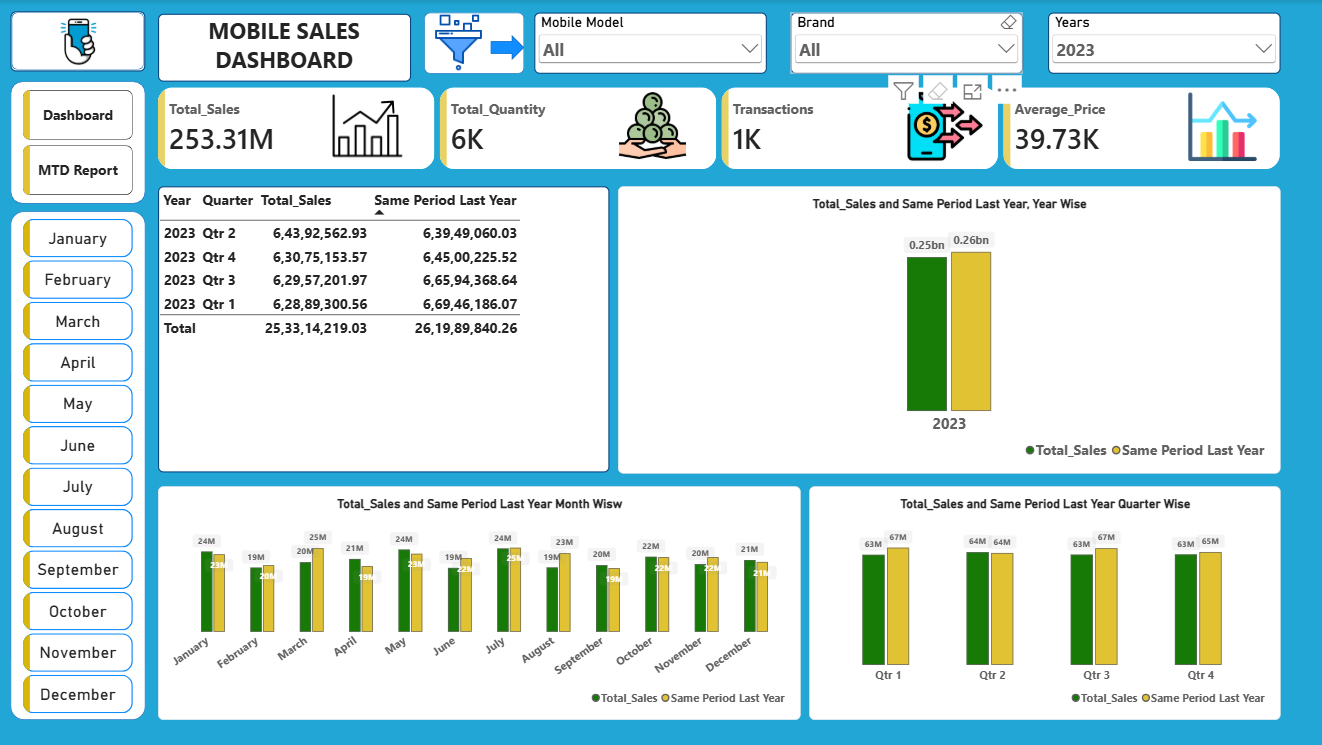

Layout of this report page (visuals, bound fields, positions):
{"tool":"powerbi","page":{"name":"Dashboard","canvas":[1920,1080],"ordinal":0},"visuals":[{"type":"shape","box":[18.1,16.3,195.4,101.3],"z":0},{"type":"image","box":[54.3,16.3,117.6,101.3],"z":1000},{"type":"shape","box":[18.1,126.7,195.4,206.3],"z":2000},{"type":"shape","box":[18.1,345.6,195.4,722.1],"z":3000},{"type":"advancedSlicerVisual","fields":{"Values":["Custom_Calendra.Date.Variation.Date Hierarchy.Month"]},"box":[36.2,363.7,159.3,691.3],"z":4000},{"type":"cardVisual","fields":{"Data":["Sales_Data.Total_Sales_data","Sales_Data.Total_Quantity","Sales_Data.Transactions","Sales_Data.Average_Price"]},"box":[232,126,1624,118],"z":5000},{"type":"image","box":[433.2,118.4,204.5,128.5],"z":6000},{"type":"image","box":[871.2,131,153.8,103.2],"z":7000},{"type":"image","box":[1283.8,129.2,175.5,108.6],"z":8000},{"type":"image","box":[1685.5,134.6,175.5,99.5],"z":9000},{"type":"slicer","fields":{"Values":["Sales_Data.Mobile Model"]},"box":[776,17.7,336.6,88.7],"z":10000},{"type":"slicer","fields":{"Values":["Sales_Data.Brand"]},"box":[1147.3,17.7,336.6,88.7],"z":11000},{"type":"slicer","fields":{"Values":["Sales_Data.Payment Method"]},"box":[1519.8,17.7,336.6,88.7],"z":12000},{"type":"shape","box":[616.7,17.7,144.8,88.7],"z":13000},{"type":"image","box":[617.1,19.9,99.5,83.2],"z":14000},{"type":"shape","box":[713,50.7,48.9,36.2],"z":15000},{"type":"shape","box":[231.6,19.9,367.4,88.7],"z":16000},{"type":"textbox","box":[232,20,366,98],"z":17000},{"type":"map","title":"Total Sales by city","fields":{"Category":["Sales_Data.City"],"Size":["Sales_Data.Total_Sales_data"]},"box":[231.6,262.4,530.2,526.6],"z":18000},{"type":"lineChart","fields":{"Category":["Custom_Calendra.Date.Variation.Date Hierarchy.Month"],"Y":["Sales_Data.Total_Quantity"]},"box":[769.1,262.4,1114.8,276.9],"z":19000},{"type":"funnel","title":"Customer Rating States","fields":{"Category":["Sales_Data.Rating_States"],"Y":["CountNonNull(Sales_Data.Customer Age)"]},"box":[769.1,551.9,553.8,237.1],"z":20000},{"type":"pieChart","fields":{"Category":["Sales_Data.Payment Method"],"Y":["Sales_Data.Transactions"]},"box":[1330.1,551.9,553.8,237.1],"z":21000},{"type":"barChart","fields":{"Category":["Sales_Data.Mobile Model"],"Y":["Sales_Data.Total_Sales_data"]},"box":[769.1,801.7,553.8,266],"z":22000},{"type":"areaChart","fields":{"Category":["Custom_Calendra.Day Name"],"Y":["Sales_Data.Total_Sales_data"]},"box":[1330.1,801.7,553.8,266],"z":23000},{"type":"tableEx","fields":{"Values":["Sales_Data.Brand","Sales_Data.Total_Sales_data","Sales_Data.Transactions","Sales_Data.Total_Quantity"]},"box":[231.6,801.7,530,266],"z":24000},{"type":"pageNavigator","box":[36.2,153.8,159.3,153.8],"z":25000}]}

Visuals, with their boxes in screenshot pixels (x1, y1, x2, y2), scaled from the page's 1920x1080 canvas onto the 1322x745 screenshot:
shape: {"left": 12, "top": 11, "right": 147, "bottom": 81}
image: {"left": 37, "top": 11, "right": 118, "bottom": 81}
shape: {"left": 12, "top": 87, "right": 147, "bottom": 230}
shape: {"left": 12, "top": 238, "right": 147, "bottom": 737}
advancedSlicerVisual - Custom_Calendra.Date.Variation.Date Hierarchy.Month: {"left": 25, "top": 251, "right": 135, "bottom": 728}
cardVisual - Sales_Data.Total_Sales_data x Sales_Data.Total_Quantity: {"left": 160, "top": 87, "right": 1278, "bottom": 168}
image: {"left": 298, "top": 82, "right": 439, "bottom": 170}
image: {"left": 600, "top": 90, "right": 706, "bottom": 162}
image: {"left": 884, "top": 89, "right": 1005, "bottom": 164}
image: {"left": 1161, "top": 93, "right": 1281, "bottom": 161}
slicer - Sales_Data.Mobile Model: {"left": 534, "top": 12, "right": 766, "bottom": 73}
slicer - Sales_Data.Brand: {"left": 790, "top": 12, "right": 1022, "bottom": 73}
slicer - Sales_Data.Payment Method: {"left": 1046, "top": 12, "right": 1278, "bottom": 73}
shape: {"left": 425, "top": 12, "right": 524, "bottom": 73}
image: {"left": 425, "top": 14, "right": 493, "bottom": 71}
shape: {"left": 491, "top": 35, "right": 525, "bottom": 60}
shape: {"left": 159, "top": 14, "right": 412, "bottom": 75}
textbox: {"left": 160, "top": 14, "right": 412, "bottom": 81}
"Total Sales by city" map: {"left": 159, "top": 181, "right": 525, "bottom": 544}
lineChart - Custom_Calendra.Date.Variation.Date Hierarchy.Month x Sales_Data.Total_Quantity: {"left": 530, "top": 181, "right": 1297, "bottom": 372}
"Customer Rating States" funnel: {"left": 530, "top": 381, "right": 911, "bottom": 544}
pieChart - Sales_Data.Payment Method x Sales_Data.Transactions: {"left": 916, "top": 381, "right": 1297, "bottom": 544}
barChart - Sales_Data.Mobile Model x Sales_Data.Total_Sales_data: {"left": 530, "top": 553, "right": 911, "bottom": 737}
areaChart - Custom_Calendra.Day Name x Sales_Data.Total_Sales_data: {"left": 916, "top": 553, "right": 1297, "bottom": 737}
tableEx - Sales_Data.Brand x Sales_Data.Total_Sales_data: {"left": 159, "top": 553, "right": 524, "bottom": 737}
pageNavigator: {"left": 25, "top": 106, "right": 135, "bottom": 212}
